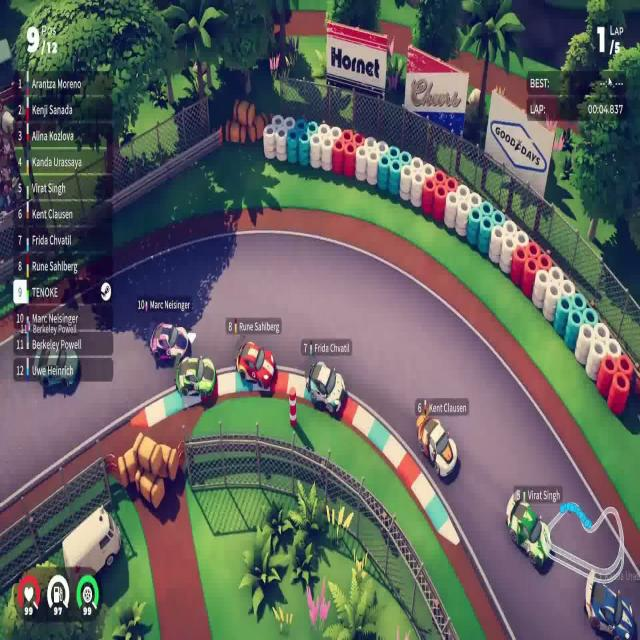car: (505, 486, 552, 569), (415, 406, 458, 479), (583, 587, 635, 640), (306, 359, 347, 417), (235, 340, 276, 392), (149, 321, 196, 365), (175, 354, 217, 403)
